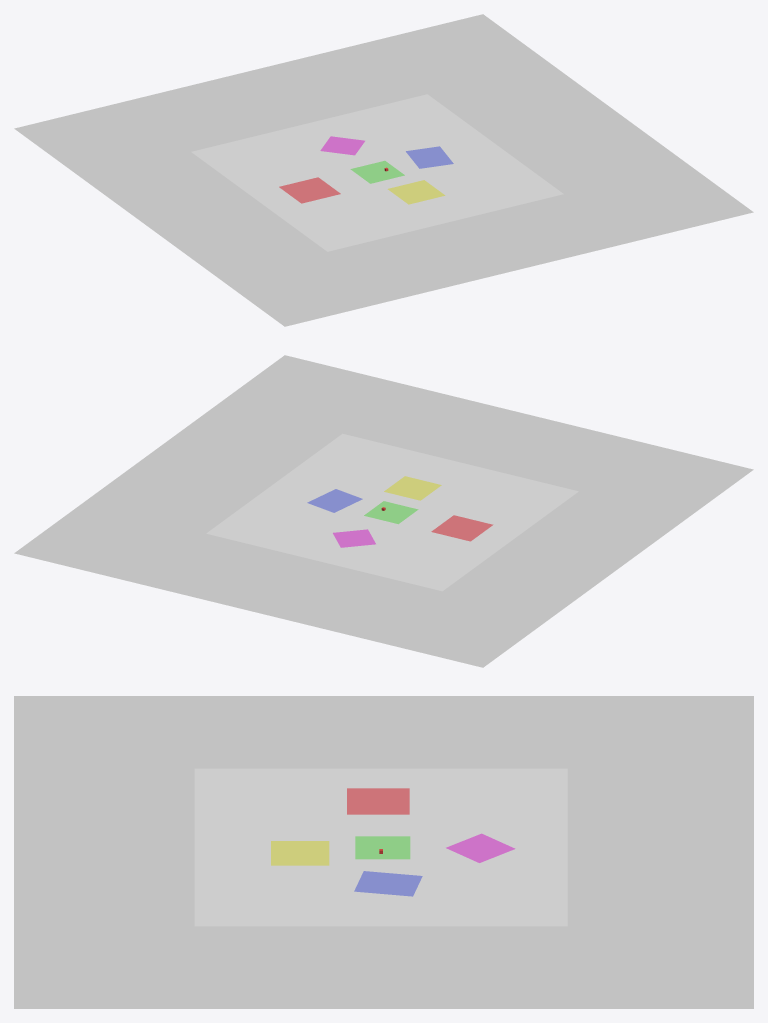
File: Floor.glb
The picture shows the model from 3 angles, top to bottom: view 1: azimuth 30°, elevation 25°; view 2: azimuth 150°, elevation 25°; view 3: azimuth 270°, elevation 25°; orthographic projection. The views are drawn at different scales.
Parts seen in each view (by area): view 1: Floor, Content, Products, ContactUs, AboutUs, Home, Service; view 2: Floor, Content, Products, ContactUs, AboutUs, Home, Service; view 3: Floor, Content, Products, ContactUs, Home, AboutUs, Service.
Part boxes in pixels (x1,y1,x2,y2): Floor: [14, 14, 753, 326]; Content: [191, 94, 563, 251]; Products: [279, 177, 340, 203]; ContactUs: [387, 180, 445, 204]; AboutUs: [406, 146, 453, 168]; Home: [350, 160, 404, 183]; Service: [320, 136, 364, 155]; Floor: [14, 355, 753, 667]; Content: [206, 433, 578, 591]; Products: [431, 515, 493, 541]; ContactUs: [384, 476, 441, 500]; AboutUs: [307, 489, 362, 512]; Home: [364, 501, 418, 524]; Service: [333, 529, 375, 547]; Floor: [14, 696, 753, 1008]; Content: [194, 768, 567, 926]; Products: [347, 788, 409, 814]; ContactUs: [271, 841, 329, 865]; Home: [355, 836, 410, 859]; AboutUs: [354, 871, 422, 896]; Service: [446, 833, 515, 862].
Size of the model in its own units: 79.27 by 0.4095 by 79.27.
